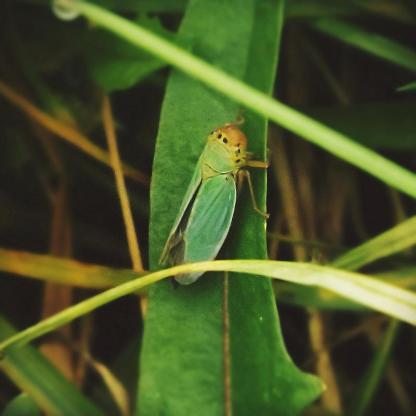Green-Leafhopper: (156, 109, 275, 289)
